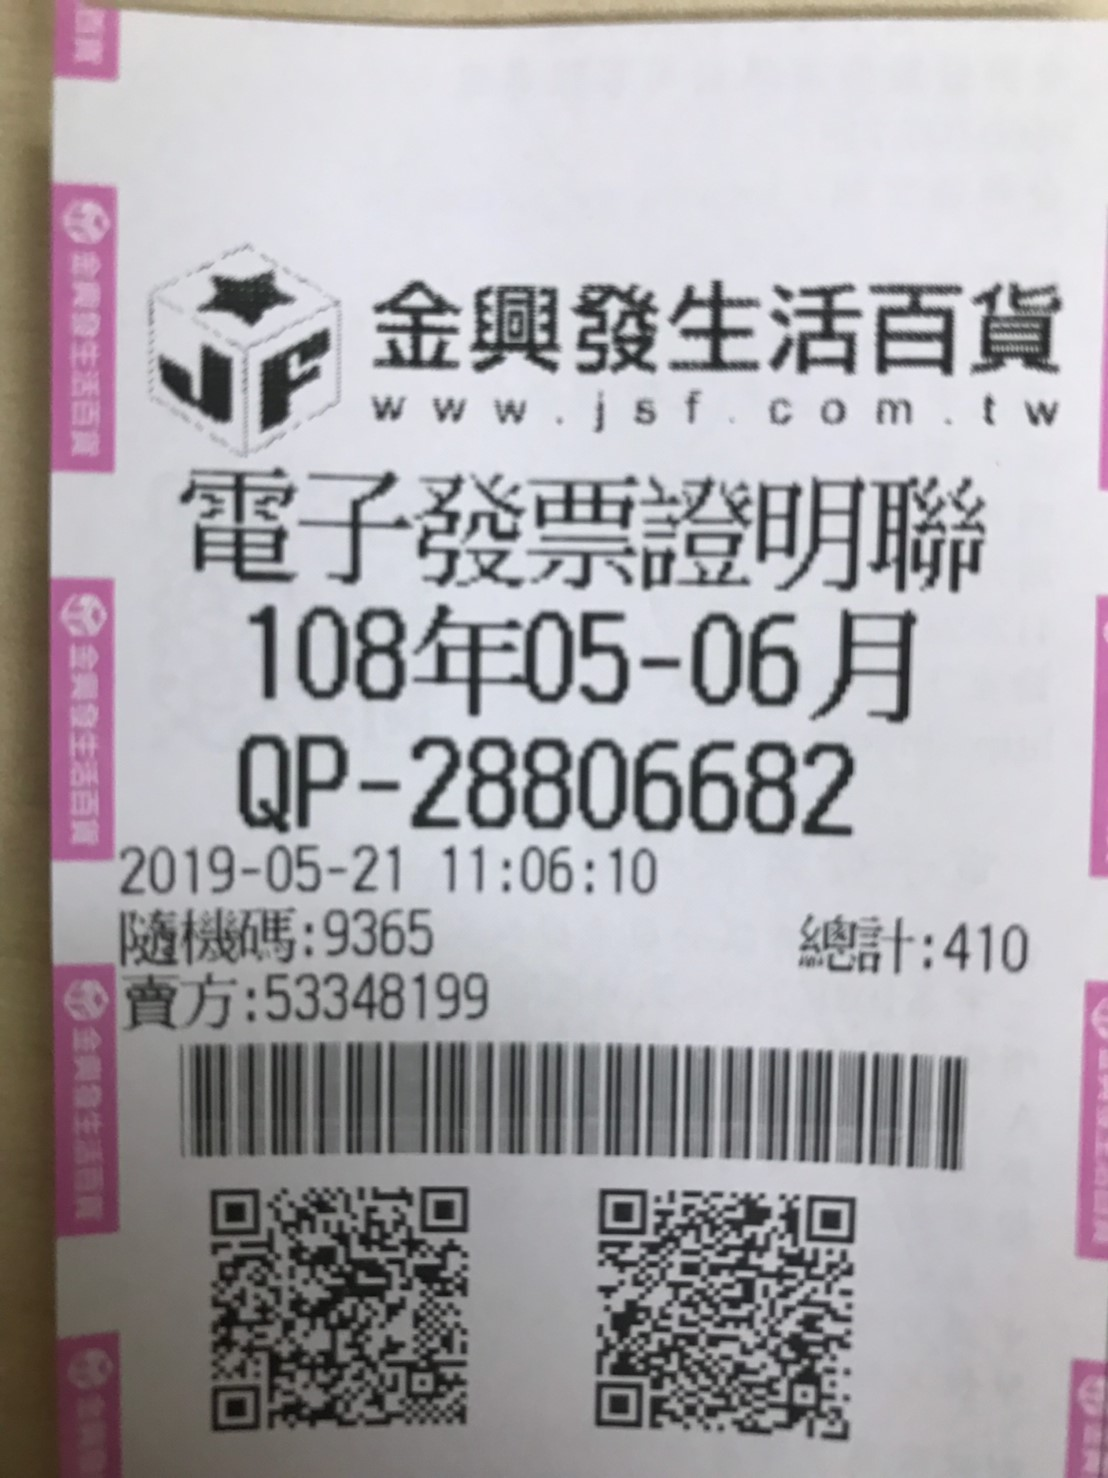Date_New: (248, 597, 928, 730)
Number_New: (405, 725, 859, 846)
